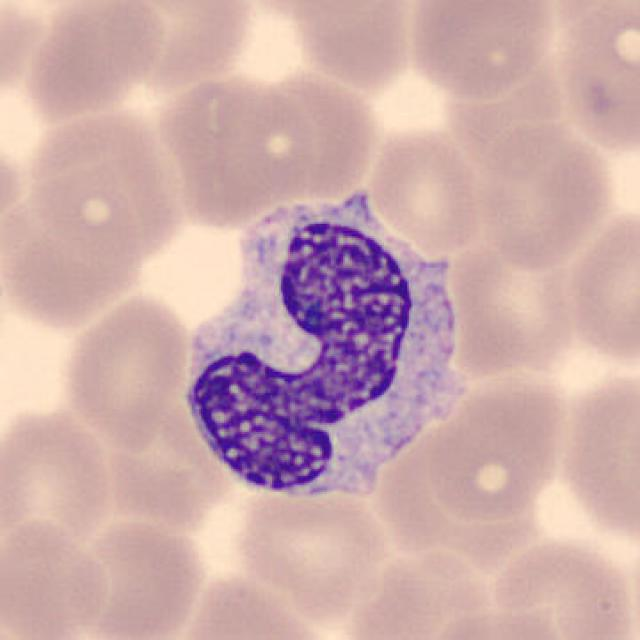Monocyte: (172, 190, 474, 506)
RBC: (149, 72, 320, 229), (22, 102, 188, 263), (0, 166, 148, 333), (423, 368, 573, 522), (58, 289, 194, 450), (473, 118, 615, 272), (233, 478, 391, 614), (233, 65, 382, 208), (5, 0, 169, 122), (59, 513, 210, 640), (442, 236, 578, 376), (0, 400, 117, 555), (553, 363, 640, 552), (484, 532, 636, 640), (364, 124, 486, 255), (403, 0, 560, 100), (93, 0, 260, 92), (343, 543, 500, 640), (251, 0, 421, 88), (549, 0, 640, 159), (0, 513, 112, 640), (560, 201, 638, 368), (169, 569, 343, 640), (418, 601, 572, 640)
